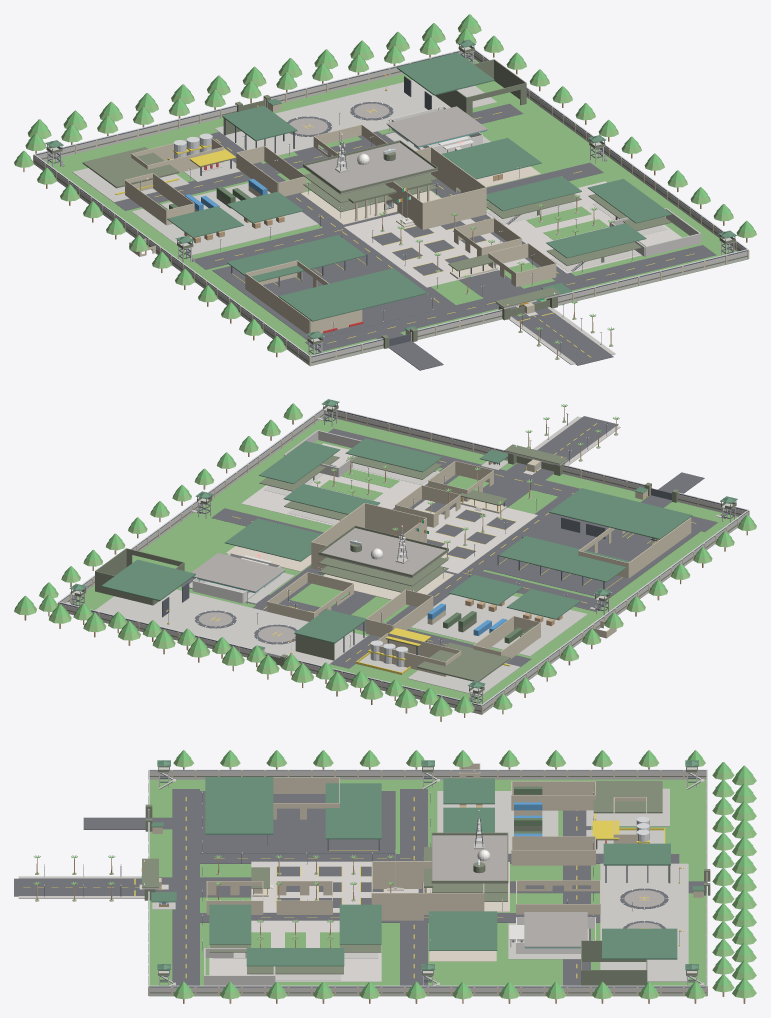
File: SM_Base_Militaire_Yopougon.fbx
3 renders of one model, top to bottom at view 1: azimuth 30°, elevation 25°; view 2: azimuth 150°, elevation 25°; view 3: azimuth 270°, elevation 25°, orthographic. The views are drawn at different scales.
Parts seen in each view (by area): view 1: BM_08_Voirie_Environnement, BM_06_PlaceArmes_Garages_Ateliers, BM_03_Casernes_Troupes_Ext, BM_05_Munitions_Logistique_Ext, BM_01_Perimetre_Enceinte, BM_07_Zone_Aerienne_Heliport, BM_02_Quartier_General_Ext, BM_04_Mess_Infirmerie_Ext; view 2: BM_08_Voirie_Environnement, BM_06_PlaceArmes_Garages_Ateliers, BM_05_Munitions_Logistique_Ext, BM_03_Casernes_Troupes_Ext, BM_01_Perimetre_Enceinte, BM_07_Zone_Aerienne_Heliport, BM_02_Quartier_General_Ext, BM_04_Mess_Infirmerie_Ext; view 3: BM_08_Voirie_Environnement, BM_06_PlaceArmes_Garages_Ateliers, BM_03_Casernes_Troupes_Ext, BM_01_Perimetre_Enceinte, BM_05_Munitions_Logistique_Ext, BM_07_Zone_Aerienne_Heliport, BM_02_Quartier_General_Ext, BM_04_Mess_Infirmerie_Ext.
Part boxes in pixels (box(x1,y1,x2,y2)): BM_08_Voirie_Environnement: box(14, 14, 756, 370); BM_06_PlaceArmes_Garages_Ateliers: box(212, 187, 529, 340); BM_03_Casernes_Troupes_Ext: box(125, 137, 681, 273); BM_05_Munitions_Logistique_Ext: box(72, 133, 701, 286); BM_01_Perimetre_Enceinte: box(33, 39, 749, 365); BM_07_Zone_Aerienne_Heliport: box(215, 52, 526, 155); BM_02_Quartier_General_Ext: box(300, 133, 486, 229); BM_04_Mess_Infirmerie_Ext: box(313, 106, 541, 190); BM_08_Voirie_Environnement: box(14, 403, 756, 721); BM_06_PlaceArmes_Garages_Ateliers: box(414, 488, 700, 596); BM_05_Munitions_Logistique_Ext: box(284, 430, 587, 696); BM_03_Casernes_Troupes_Ext: box(241, 438, 540, 676); BM_01_Perimetre_Enceinte: box(57, 399, 749, 714); BM_07_Zone_Aerienne_Heliport: box(95, 548, 367, 665); BM_02_Quartier_General_Ext: box(311, 503, 453, 599); BM_04_Mess_Infirmerie_Ext: box(189, 518, 353, 621); BM_08_Voirie_Environnement: box(14, 750, 756, 1003); BM_06_PlaceArmes_Garages_Ateliers: box(200, 777, 418, 912); BM_03_Casernes_Troupes_Ext: box(209, 781, 646, 981); BM_01_Perimetre_Enceinte: box(134, 760, 710, 995); BM_05_Munitions_Logistique_Ext: box(204, 778, 669, 985); BM_07_Zone_Aerienne_Heliport: box(581, 843, 688, 985); BM_02_Quartier_General_Ext: box(371, 810, 509, 920); BM_04_Mess_Infirmerie_Ext: box(428, 880, 600, 961).
Size of the model in its own units: 24590 by 3146 by 31940.
